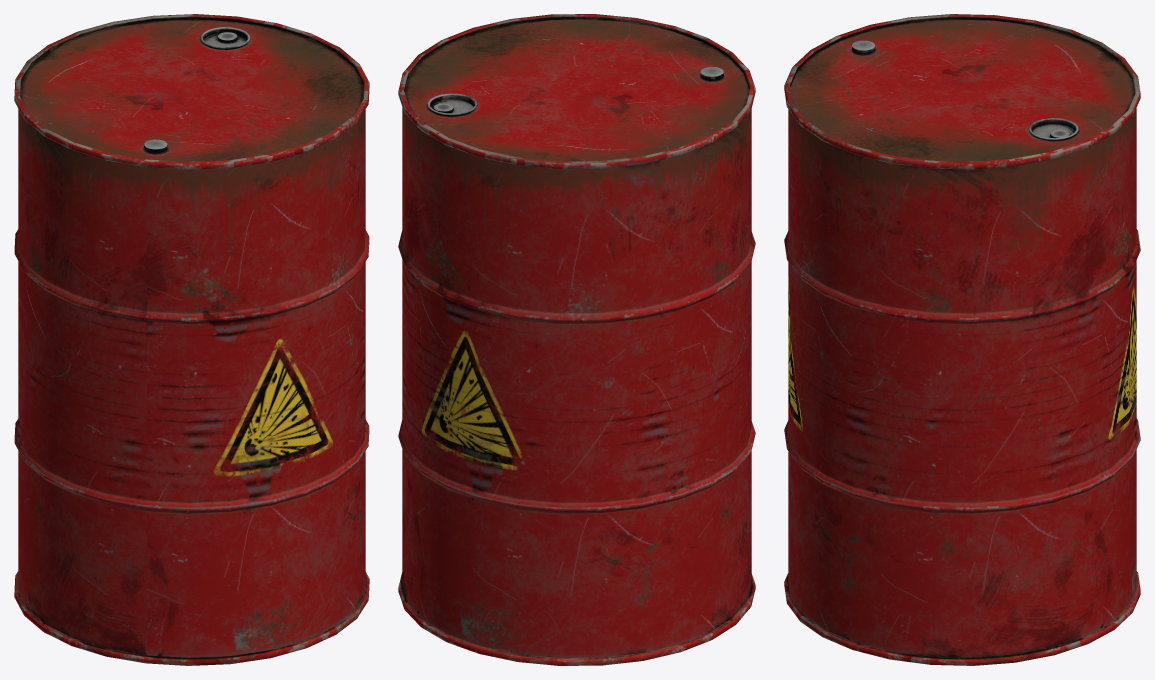
Rendered from Barrel.glb.
3 renders of one model, left to right at view 1: azimuth 30°, elevation 25°; view 2: azimuth 150°, elevation 25°; view 3: azimuth 270°, elevation 25°, orthographic.
Visible parts, largest first — view 1: Barrel_01; view 2: Barrel_01; view 3: Barrel_01.
Part boxes in pixels (left/top/right/bottom): Barrel_01: left=14, top=14, right=369, bottom=665; Barrel_01: left=398, top=14, right=755, bottom=665; Barrel_01: left=784, top=14, right=1140, bottom=665.
Bounding box in the file's own units: 0.563 × 0.88 × 0.563.
Materials: 1 (1 with a texture image).
